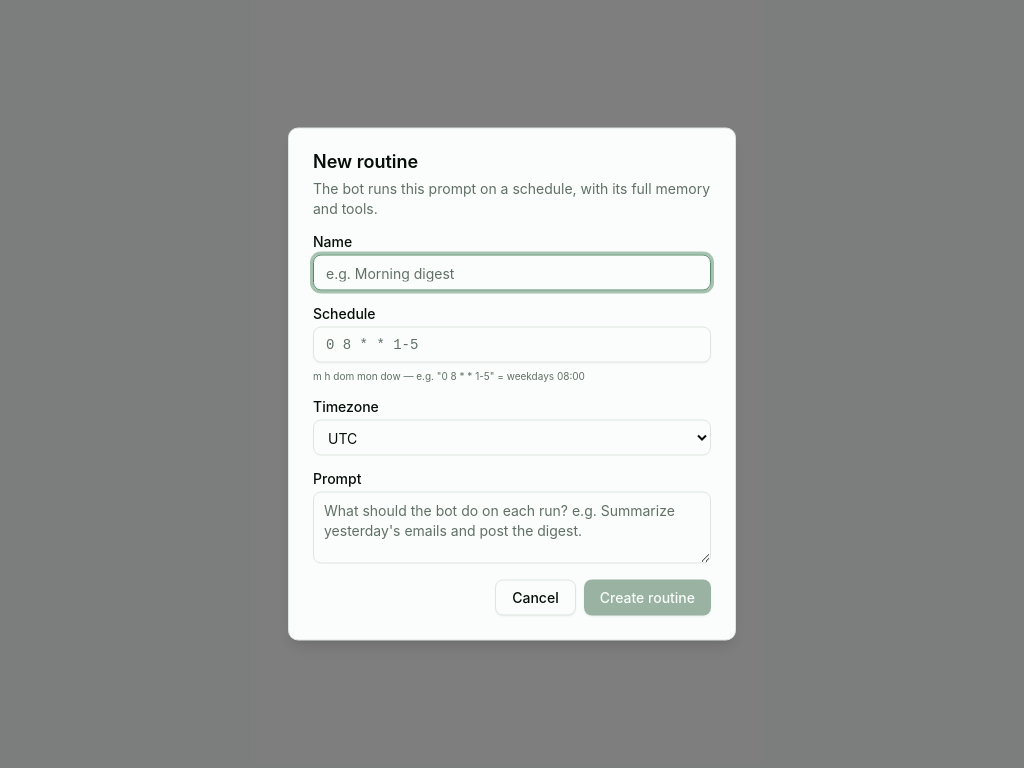
it: RoutineFormDialog › shows the server's invalid_schedule message inline under the schedule field
The image size is (1024, 768).
In the field labelled "Name": (512, 272) [313,254,711,290], type "Morning digest"
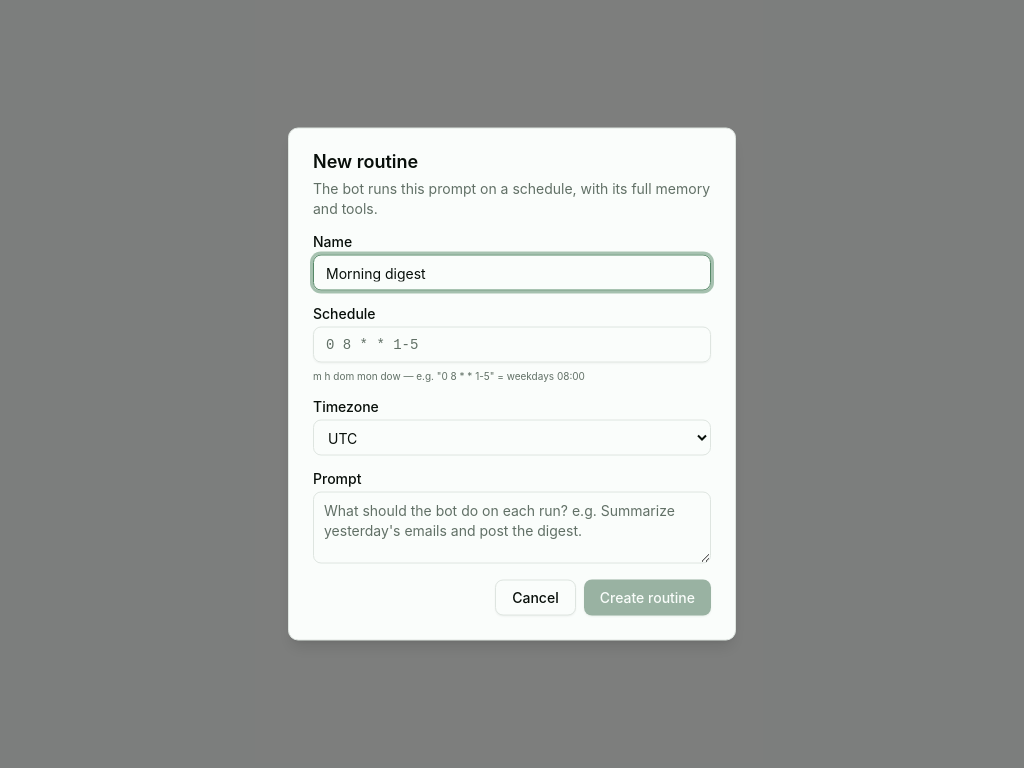
In the field labelled "Schedule": (512, 344) [313,326,711,362], type "0 8 * *"
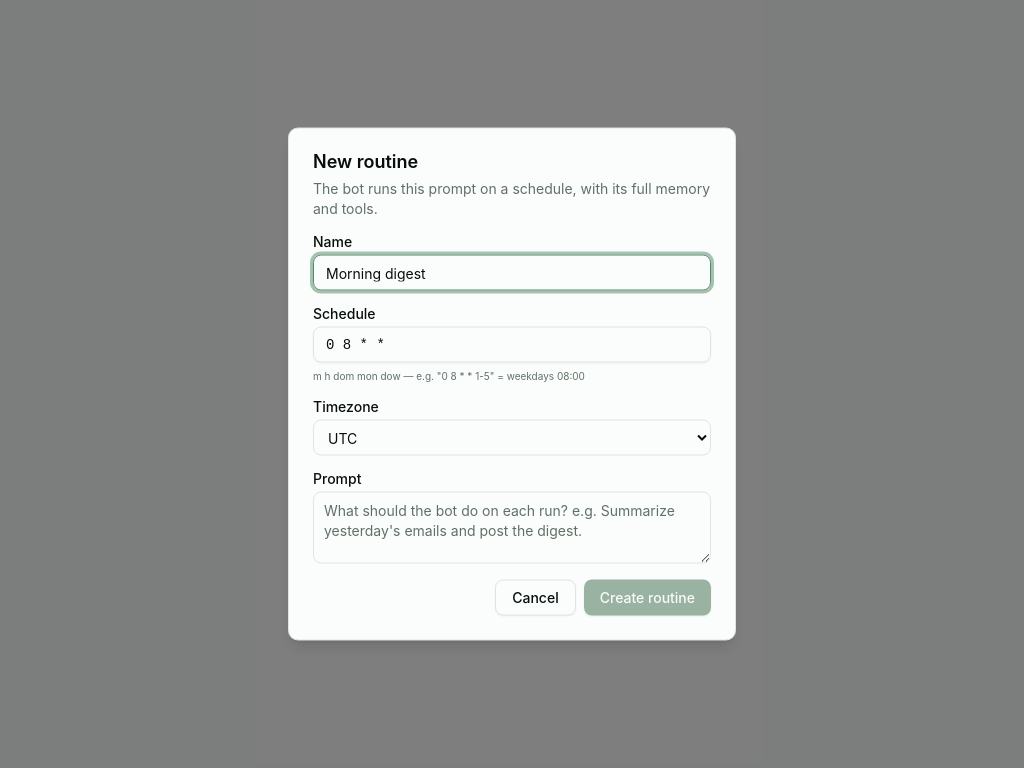
Replace the text in the text box labelled "Prompt" with "Summarize yesterday's emails.": (512, 528) [313,492,711,564]
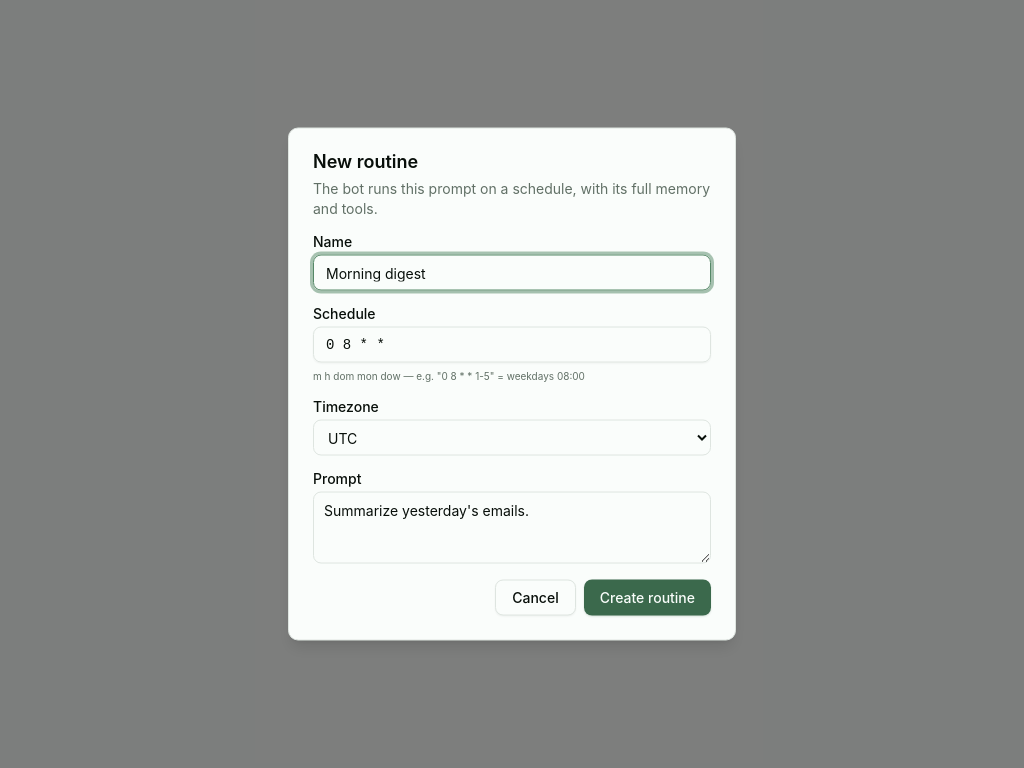
Click the button "Create routine": (647, 598) [584,580,711,616]
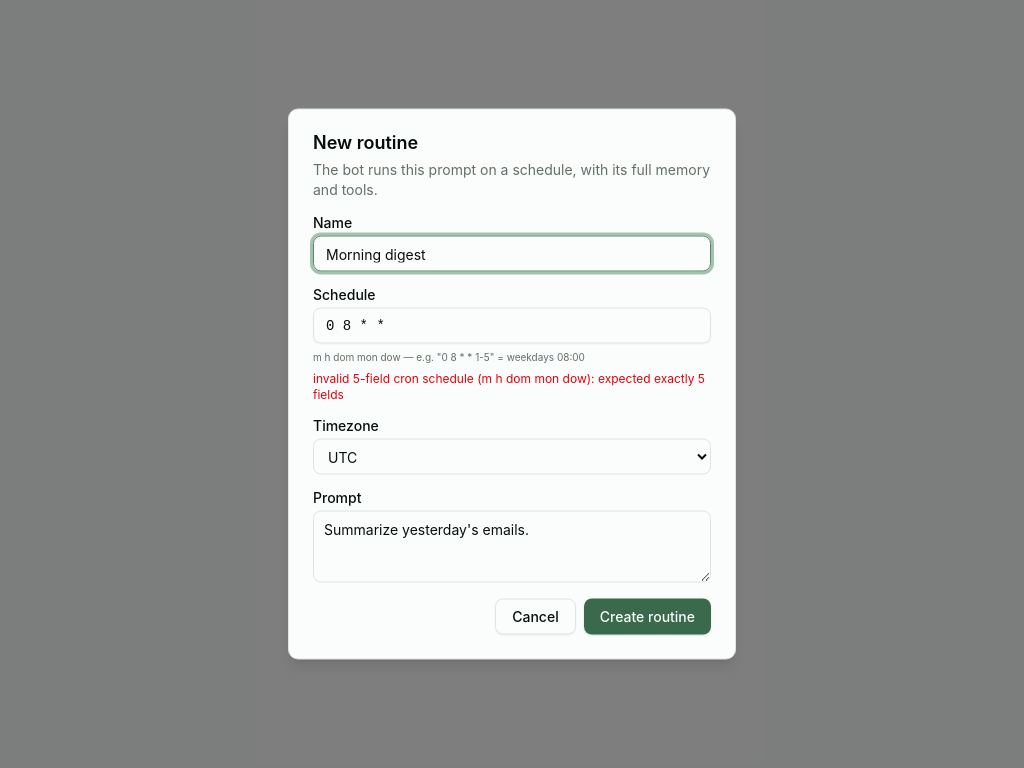
Check: the text "invalid 5-field cron schedule (m h dom mon dow): expected exactly 5 fields" is shown, box [313,370,711,402]
